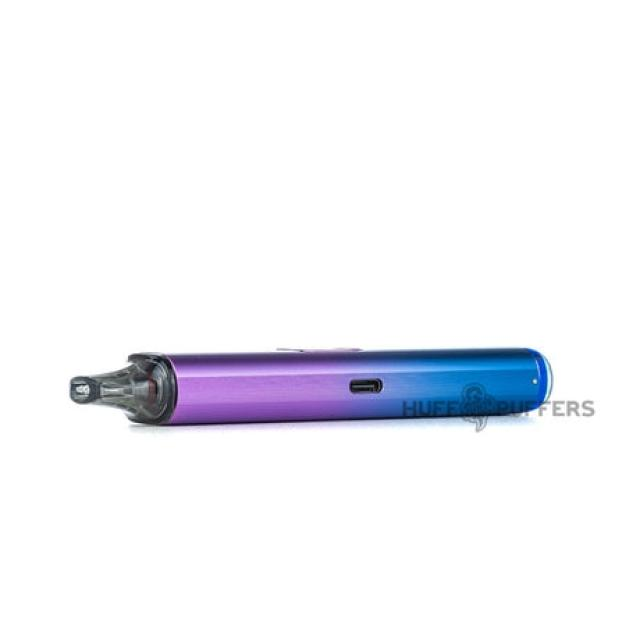Vapes: (67, 345, 554, 427)
